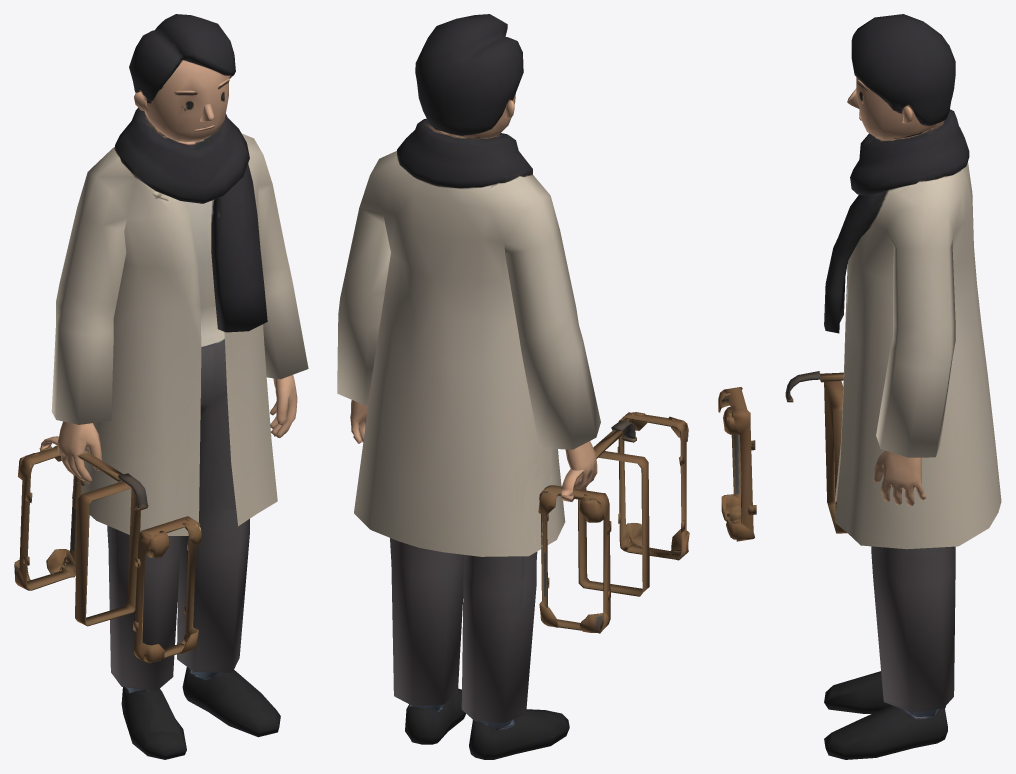
Rendered from original_glb.glb.
3 views of the same model, side by side, from view 1: azimuth 30°, elevation 25°; view 2: azimuth 150°, elevation 25°; view 3: azimuth 270°, elevation 25° (orthographic). The views are drawn at different scales.
Parts seen in each view (by area): view 1: Hotel guest; view 2: Hotel guest; view 3: Hotel guest.
Part boxes in pixels (box(x1,y1,x2,y2)): Hotel guest: box(14, 14, 308, 759); Hotel guest: box(337, 14, 689, 759); Hotel guest: box(718, 14, 1001, 759).
Bounding box in the file's own units: 0.4043 × 0.998 × 0.3613.
Materials: 1 (1 with a texture image).
